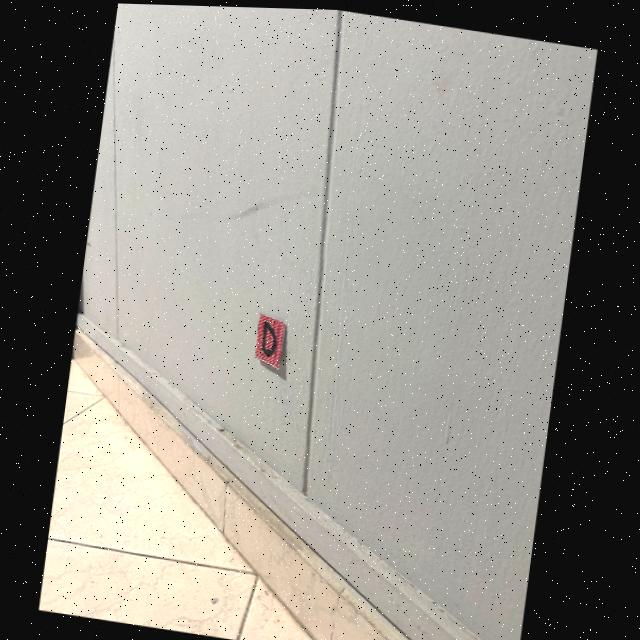D: (262, 320, 277, 354)
